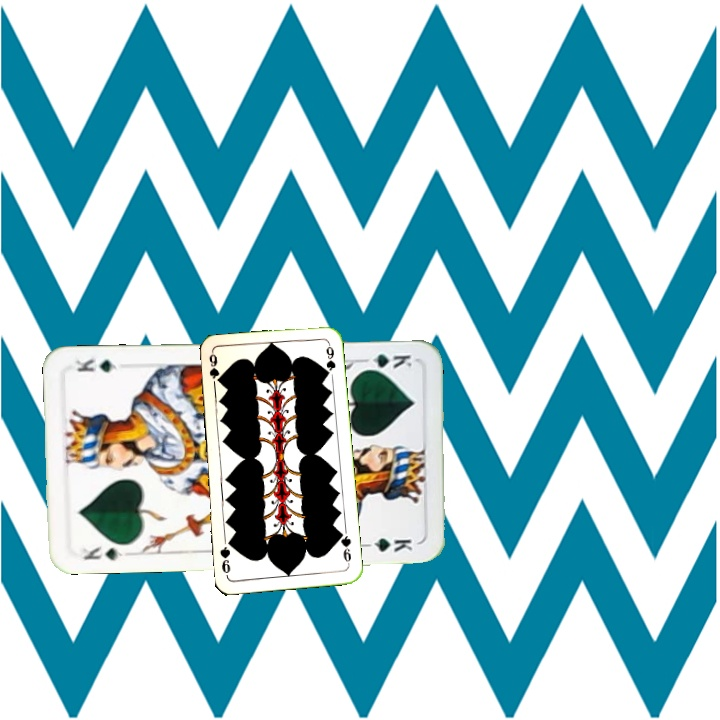G9: (336, 528, 354, 568), (205, 350, 220, 390)
GK: (357, 349, 414, 373), (79, 542, 125, 563)
